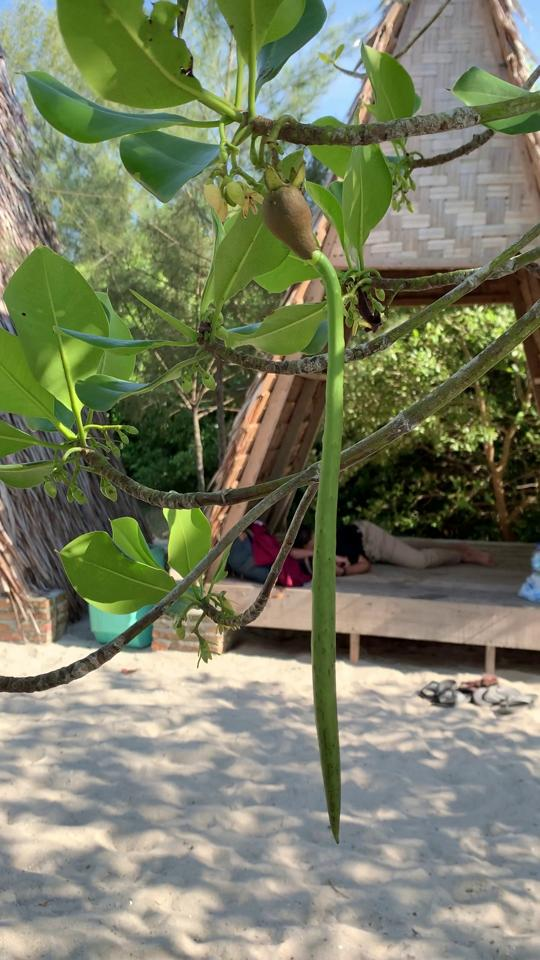setengah matang: (250, 162, 361, 858)
